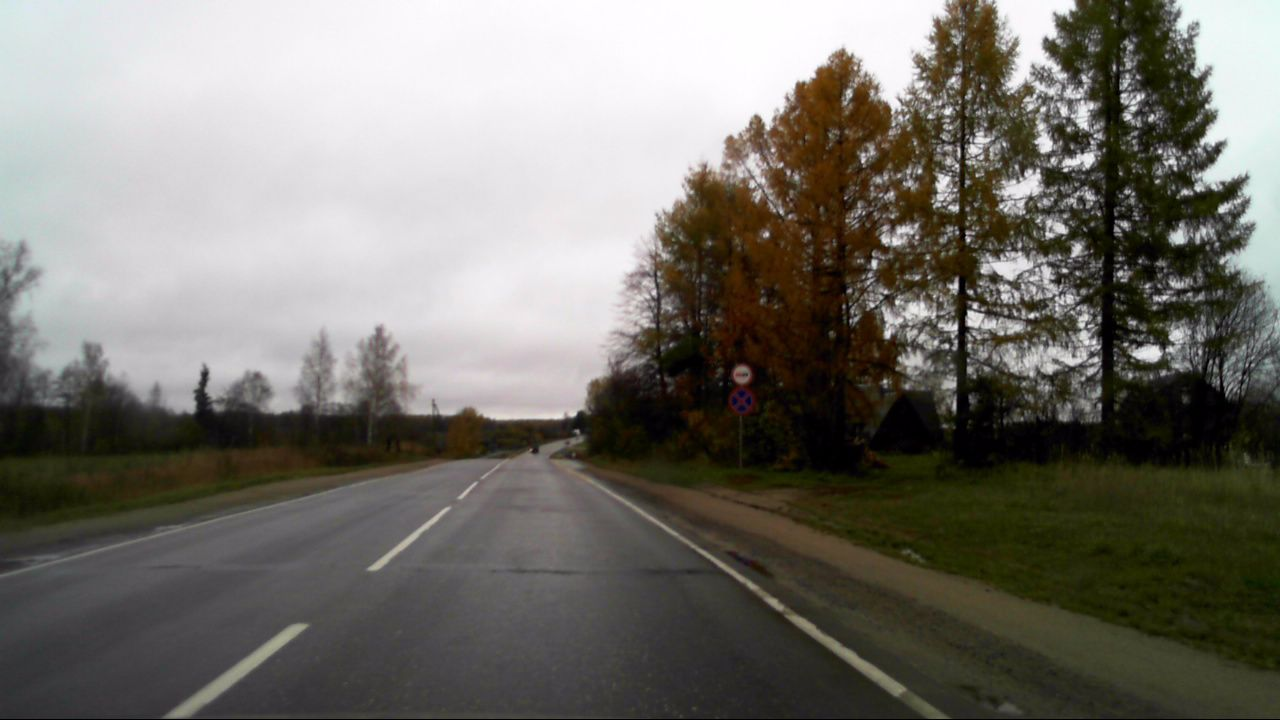No Parking: (726, 384, 756, 414)
